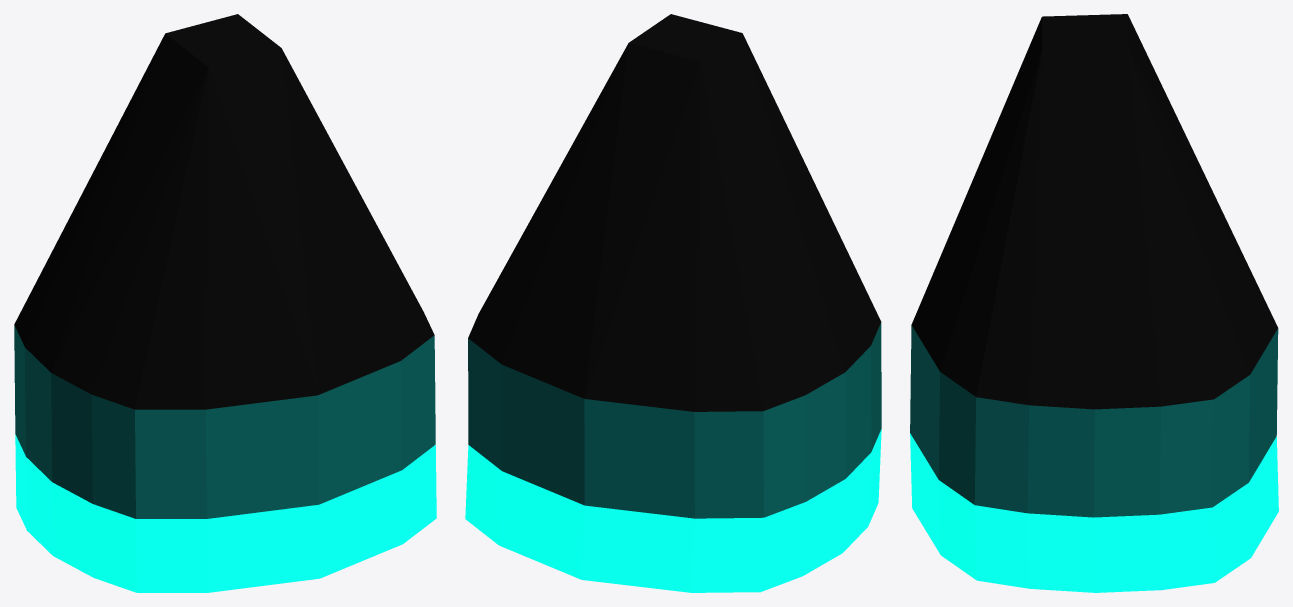
The model's file is engine.glb.
The picture shows the model from 3 angles, left to right: view 1: azimuth 30°, elevation 25°; view 2: azimuth 150°, elevation 25°; view 3: azimuth 270°, elevation 25°; orthographic projection.
Parts seen in each view (by area): view 1: Engine; view 2: Engine; view 3: Engine.
Boxes of the visible parts, x1,y1,x2,y2 form: Engine: (14, 14, 436, 592); Engine: (465, 14, 881, 592); Engine: (910, 14, 1278, 592).
Size of the model in its own units: 0.7864 by 1.04 by 0.7267.
